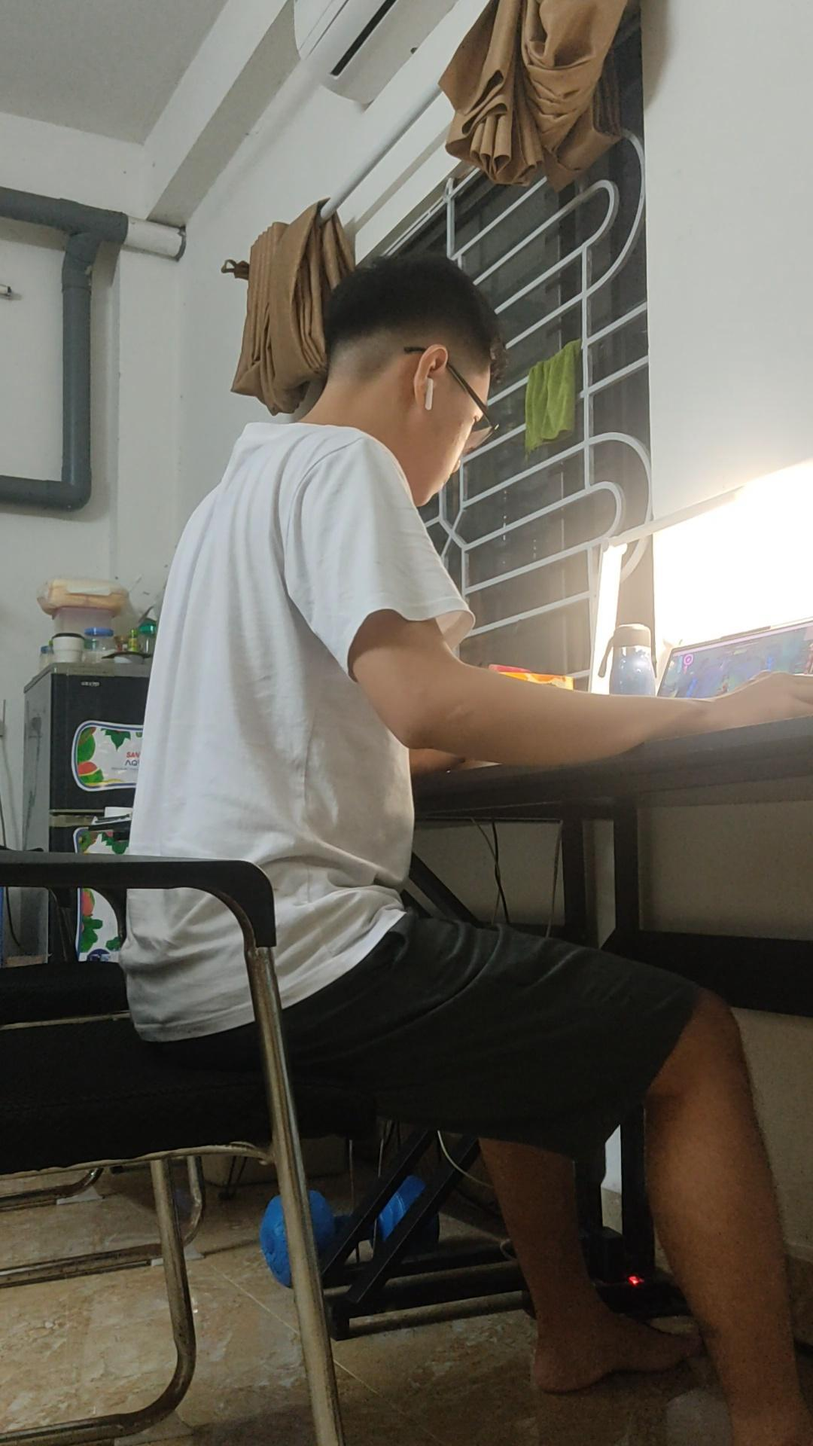GoodPosture: (129, 255, 812, 1445), (128, 257, 812, 1445)
